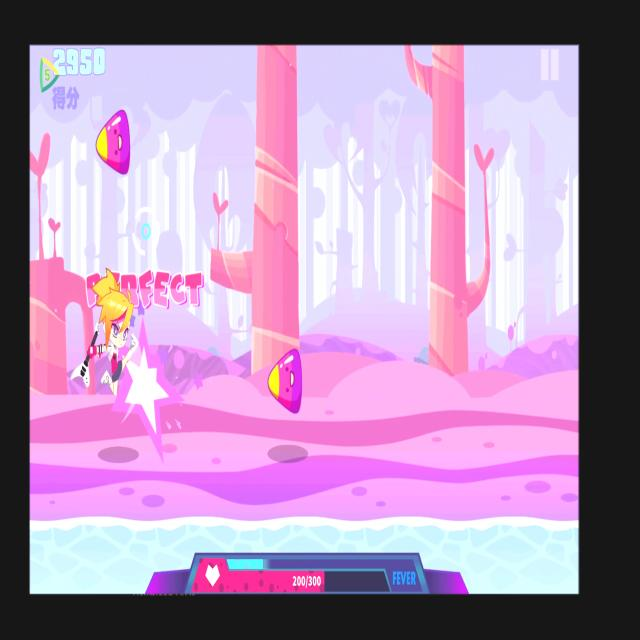jian: (259, 326, 311, 436), (88, 99, 138, 194)
